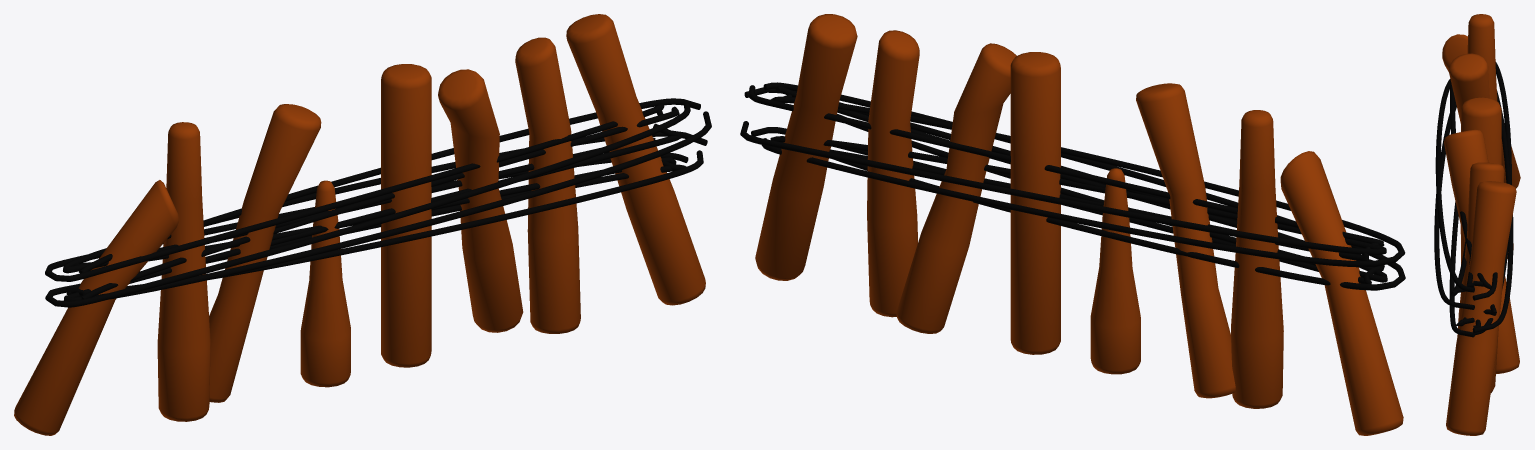
Rendered from Fence v2_Cvl_26-09.fbx.
3 renders of one model, left to right at view 1: azimuth 30°, elevation 25°; view 2: azimuth 150°, elevation 25°; view 3: azimuth 270°, elevation 25°, orthographic. The views are drawn at different scales.
Parts seen in each view (by area): view 1: Cylinder.002, Reep_03; view 2: Cylinder.002, Reep_03; view 3: Cylinder.002, Reep_03.
Boxes of the visible parts, bbox=[...] form: Cylinder.002: bbox=[14, 14, 705, 435]; Reep_03: bbox=[45, 98, 711, 307]; Cylinder.002: bbox=[755, 14, 1403, 435]; Reep_03: bbox=[740, 82, 1405, 290]; Cylinder.002: bbox=[1442, 14, 1520, 435]; Reep_03: bbox=[1434, 62, 1513, 337].
Size of the model in its own units: 489 by 200 by 67.89.
